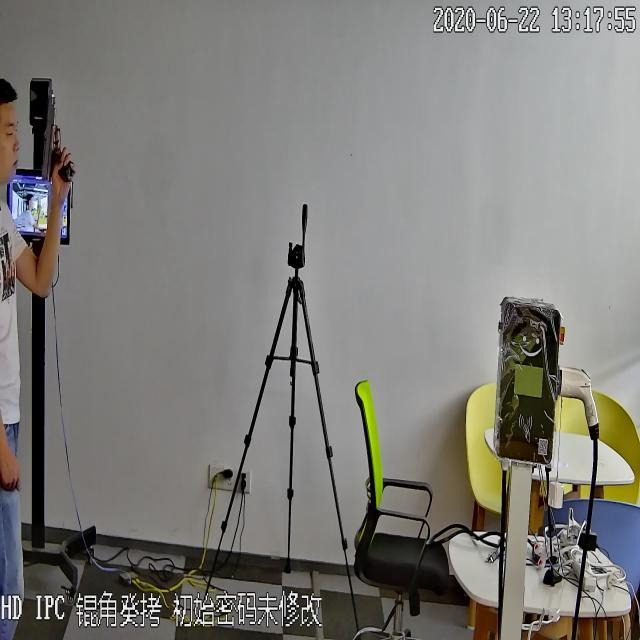gun-knife-thesis - v11 Yolov5 augmented: (36, 91, 78, 183)
